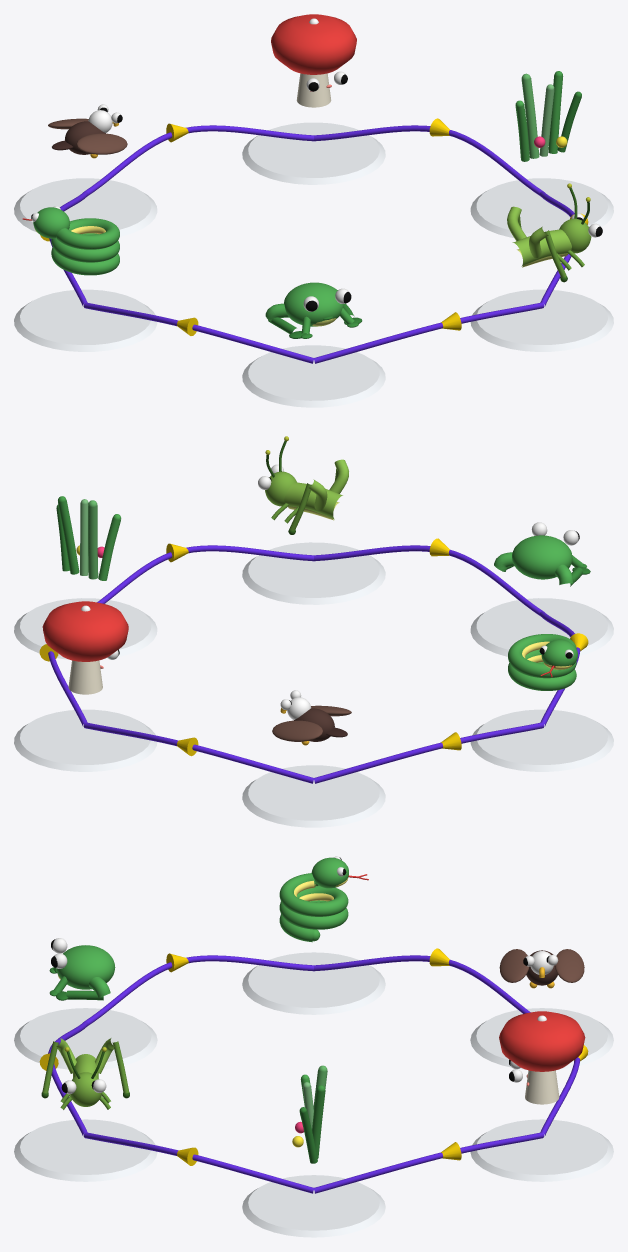
The model's file is eco_darat_baked.glb.
3 views of the same model, one above another, from view 1: azimuth 30°, elevation 25°; view 2: azimuth 150°, elevation 25°; view 3: azimuth 270°, elevation 25° (orthographic).
Visible parts, largest first — view 1: ecosystem_preset_group, object 14; view 2: ecosystem_preset_group, object 14; view 3: ecosystem_preset_group, object 14.
Boxes of the visible parts, box(x1,y1,x2,y2) form: ecosystem_preset_group: box(14, 14, 613, 407); object 14: box(33, 207, 70, 238); ecosystem_preset_group: box(14, 436, 613, 827); object 14: box(541, 639, 577, 670); ecosystem_preset_group: box(14, 873, 613, 1237); object 14: box(311, 857, 348, 888).
Bounding box in the file's own units: 5.6 × 1.25 × 5.01.
